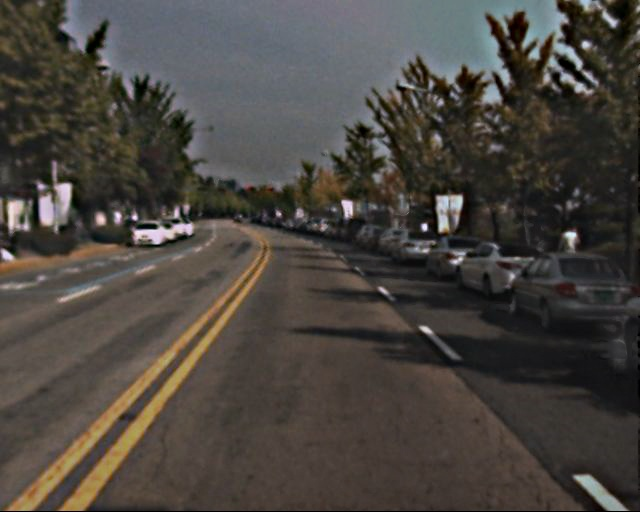person: (557, 224, 581, 282), (532, 224, 556, 277)
